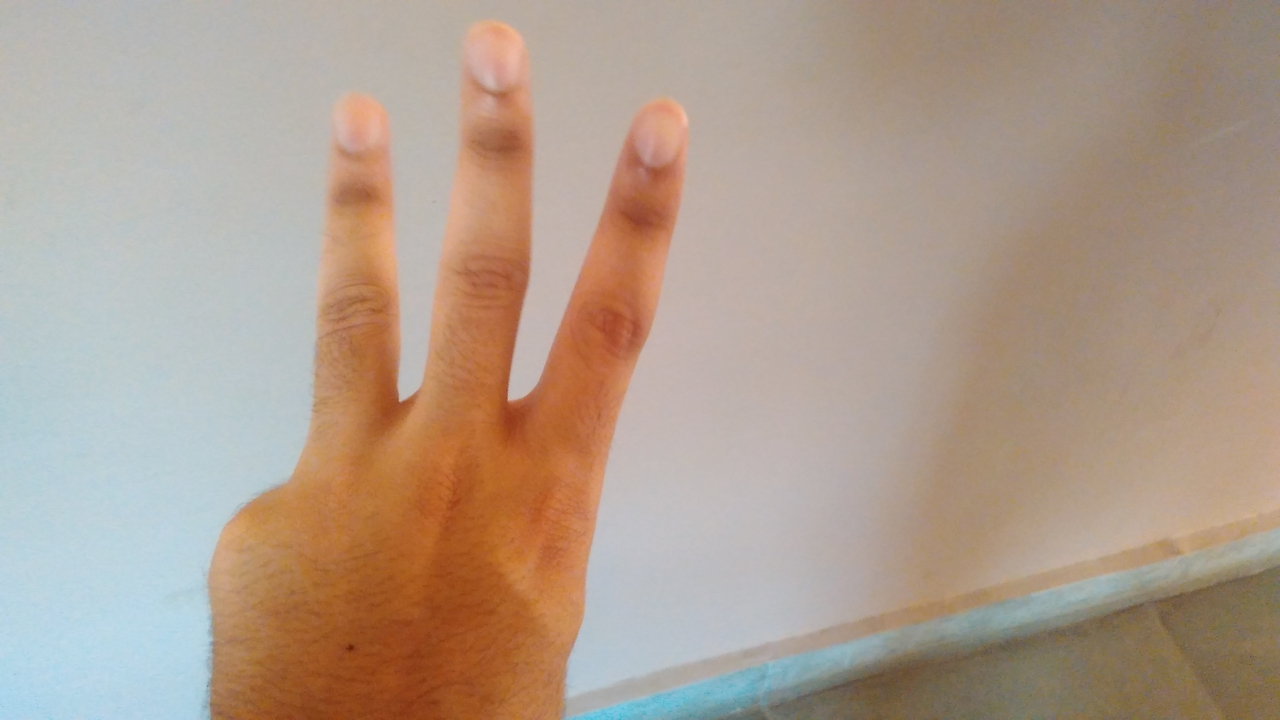fingertip: (618, 96, 696, 162), (454, 20, 528, 86), (316, 94, 390, 150)
